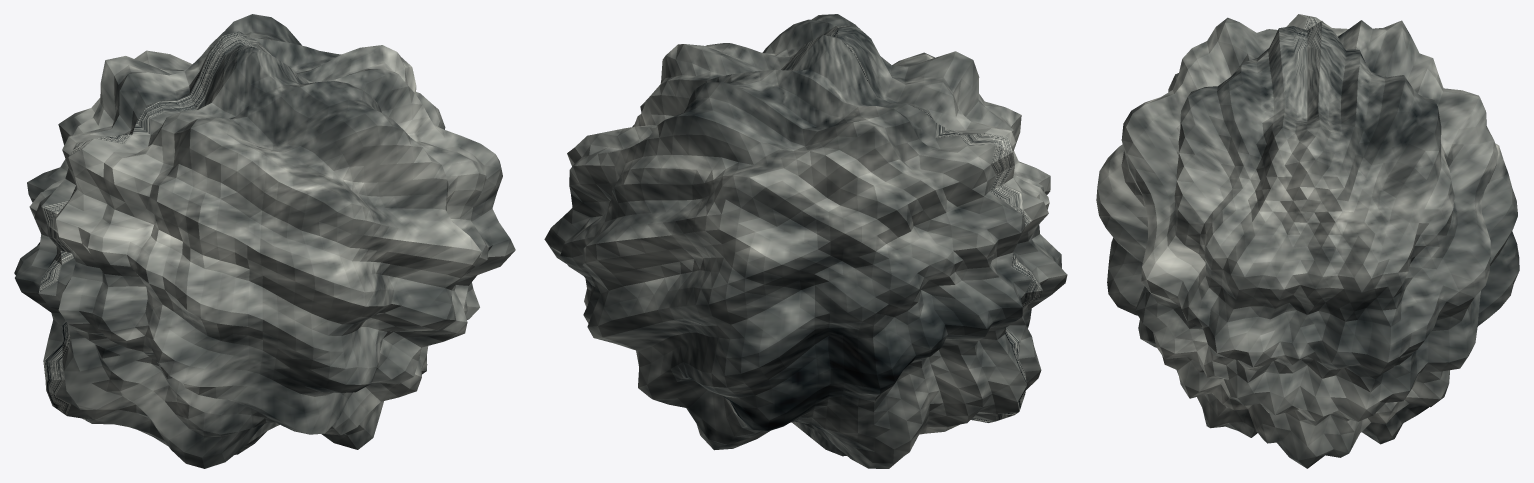
File: small_01.glb
3 renders of one model, left to right at view 1: azimuth 30°, elevation 25°; view 2: azimuth 150°, elevation 25°; view 3: azimuth 270°, elevation 25°, orthographic. The views are drawn at different scales.
Parts seen in each view (by area): view 1: rock; view 2: rock; view 3: rock.
Boxes of the visible parts, box(x1,y1,x2,y2) form: rock: box(14, 14, 515, 468); rock: box(544, 14, 1067, 468); rock: box(1096, 14, 1519, 468).
Size of the model in its own units: 0.7462 by 0.6475 by 0.6374.
Materials: 1 (1 with a texture image).
